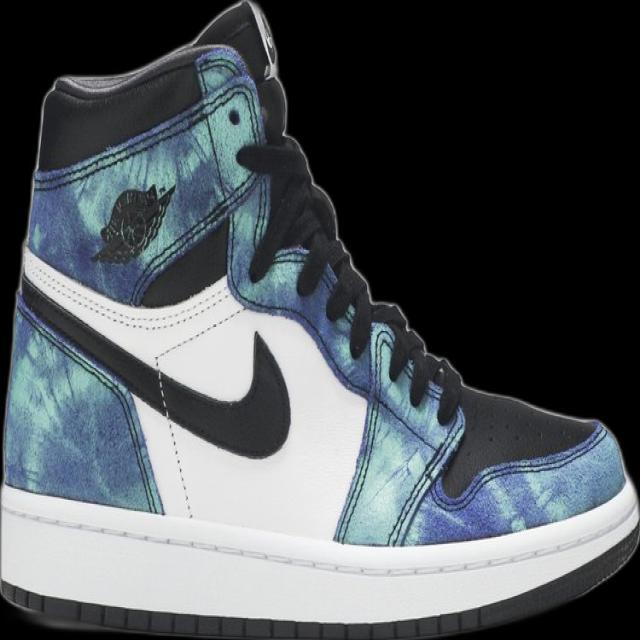J1_InsoleChar: (0, 0, 639, 639)
J1_ShoeLogo: (90, 181, 176, 265)
J1_StitchPattern: (18, 239, 468, 547), (232, 133, 466, 545), (19, 244, 247, 518), (2, 500, 637, 582), (286, 229, 460, 422), (334, 319, 466, 546), (148, 303, 246, 519), (20, 250, 235, 333), (332, 324, 393, 545), (383, 405, 467, 547), (296, 230, 375, 358), (150, 360, 197, 520)
